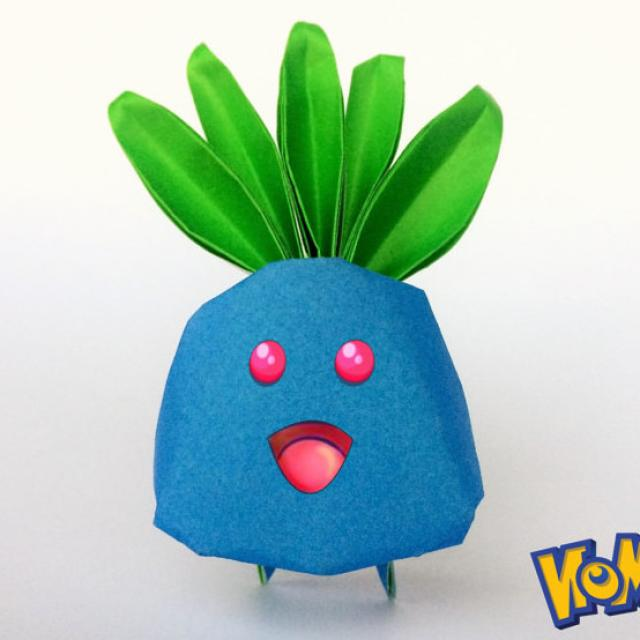Oddish: (152, 34, 488, 572)
